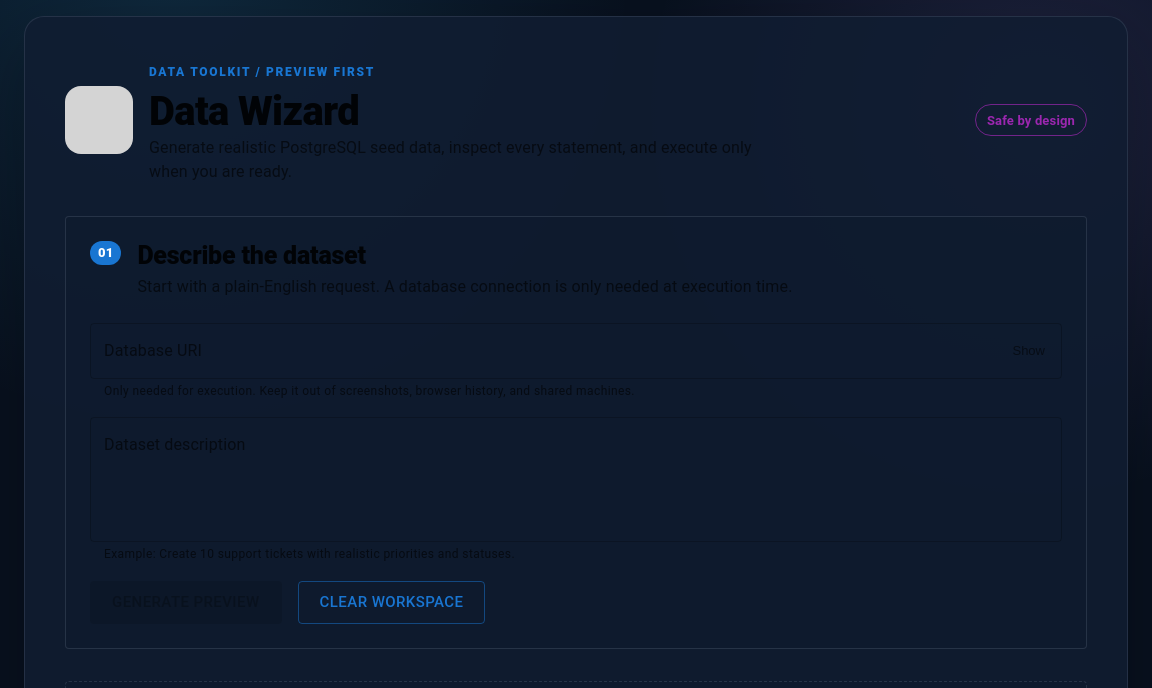
Test: DataRequest › generates a preview from a description without a database URI
Type "Create one row" into the text box labelled "Dataset description" at (576, 480), box [104, 434, 1048, 526]
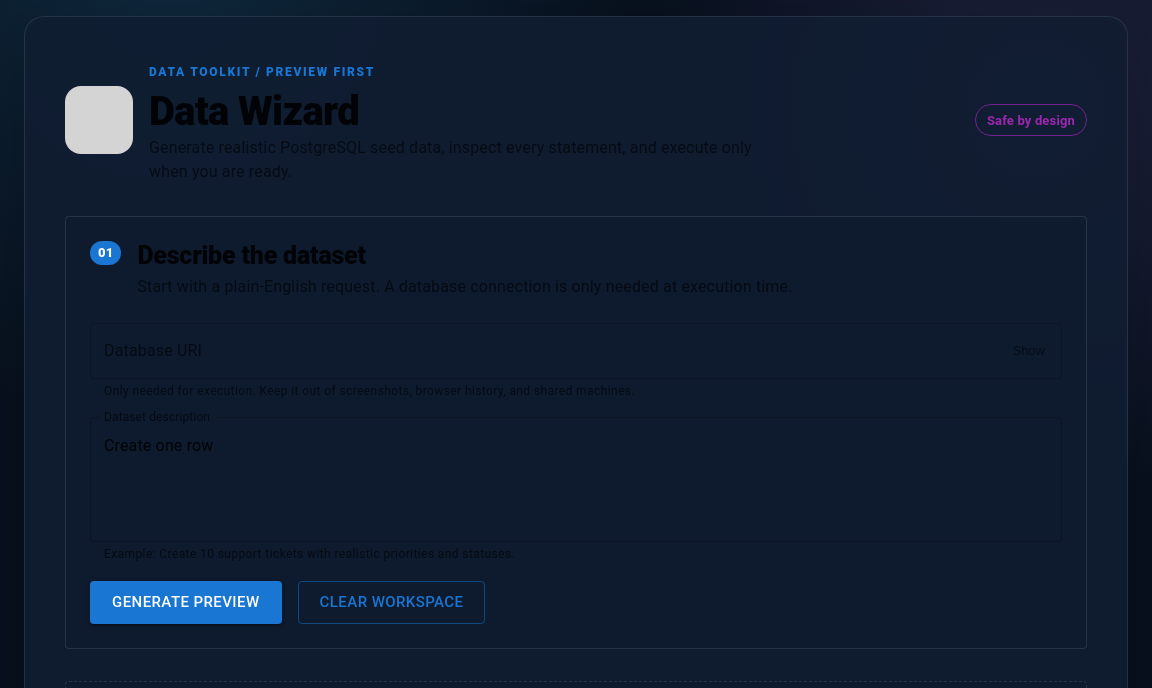
Expected: the button "Generate preview" is enabled
Click the button "Generate preview" at (186, 603), box [90, 581, 282, 624]
(page scrolled)
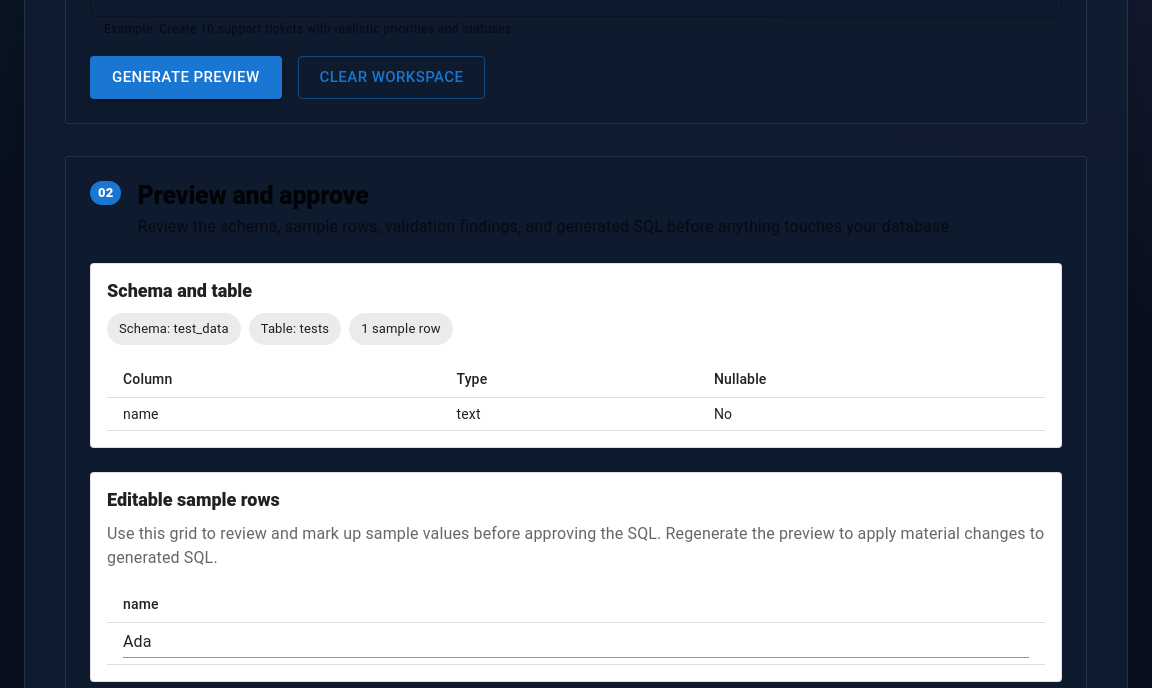
Expected: the text "Schema: test_data" is shown, [119, 321, 229, 336]
